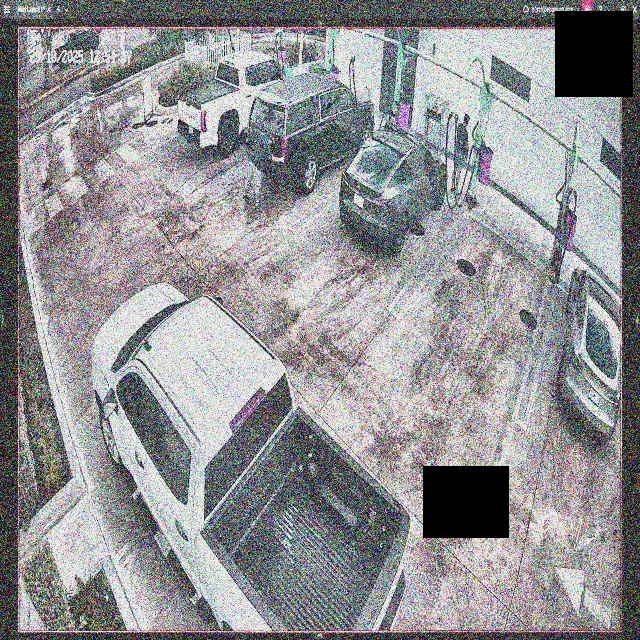Car: (90, 273, 410, 628), (245, 73, 374, 195), (339, 126, 448, 248), (173, 50, 300, 153)
